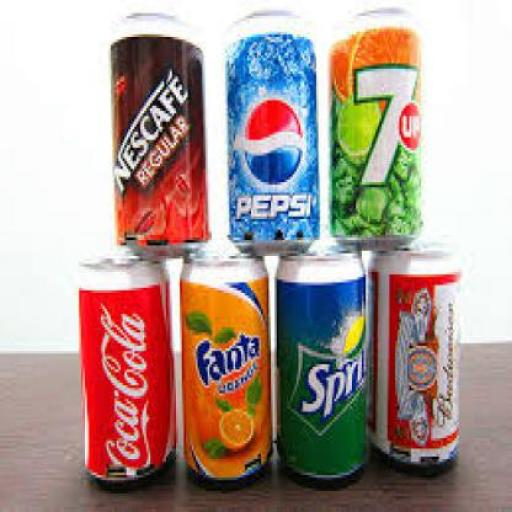metal: (109, 10, 210, 250), (73, 258, 176, 484), (224, 13, 318, 248), (272, 250, 368, 480), (176, 251, 271, 483), (364, 242, 458, 472), (328, 8, 418, 246)
